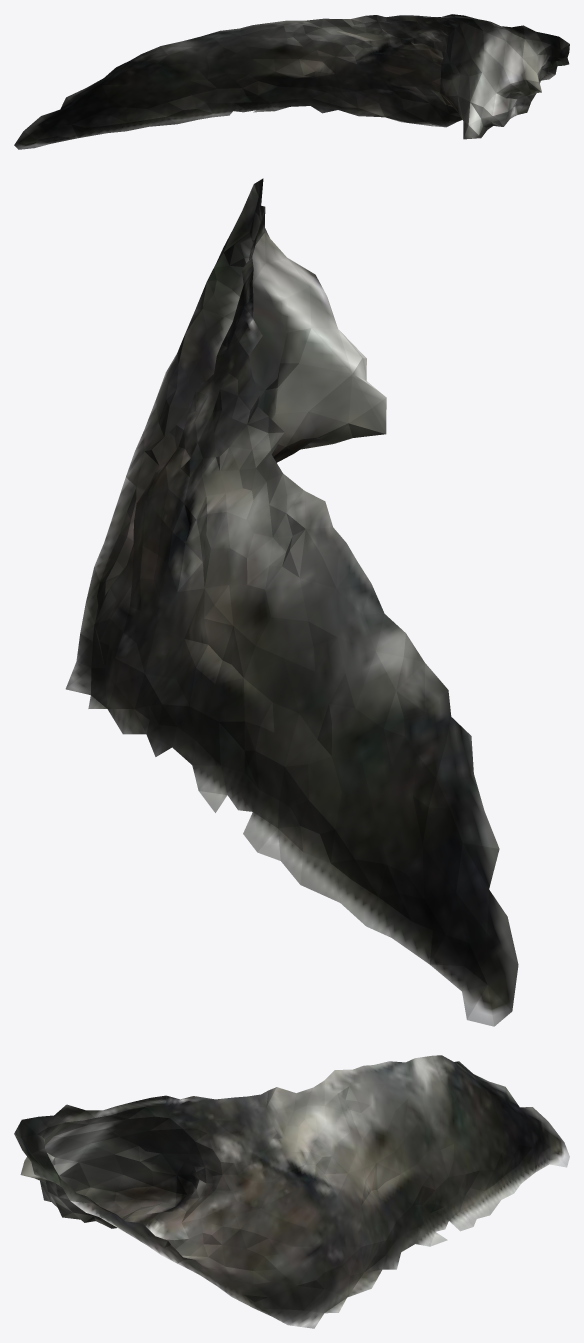
File: HeadLight_Right.fbx
3 renders of one model, top to bottom at view 1: azimuth 30°, elevation 25°; view 2: azimuth 150°, elevation 25°; view 3: azimuth 270°, elevation 25°, orthographic. The views are drawn at different scales.
Parts seen in each view (by area): view 1: luz_esquerda; view 2: luz_esquerda; view 3: luz_esquerda.
Boxes of the visible parts, bbox=[...] form: luz_esquerda: bbox=[14, 14, 569, 149]; luz_esquerda: bbox=[65, 178, 518, 1026]; luz_esquerda: bbox=[14, 1055, 569, 1328].
Bounding box in the file's own units: 34.22 × 18.01 × 36.49.
